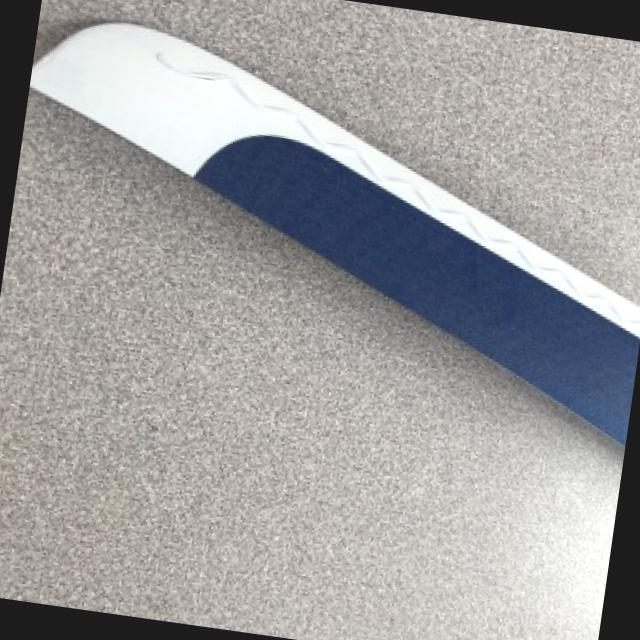healthy: (30, 20, 640, 440)
